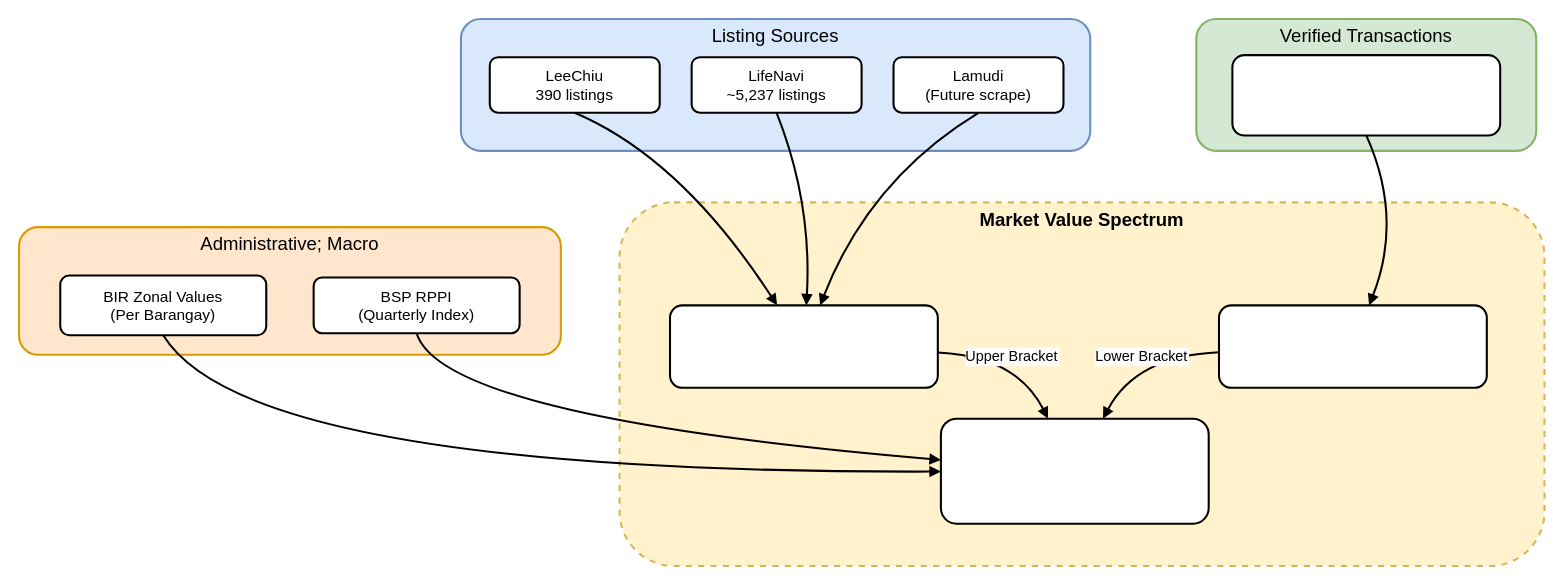
Image size: 1563x584. Some labels were removed from this diagram. Here are the shapes that lost their labels. From the top down, the centre of each, then its label:
point (1366, 95): BDO Foreclosures 955 raw entries
point (803, 346): 🔺 CEILING Online Listings (Asking Prices)
point (1352, 346): 🔻 FLOOR BDO Foreclosures (Distressed Prices)
point (1074, 470): ✅ TRUE MARKET VALUE (Estimated by Model)
